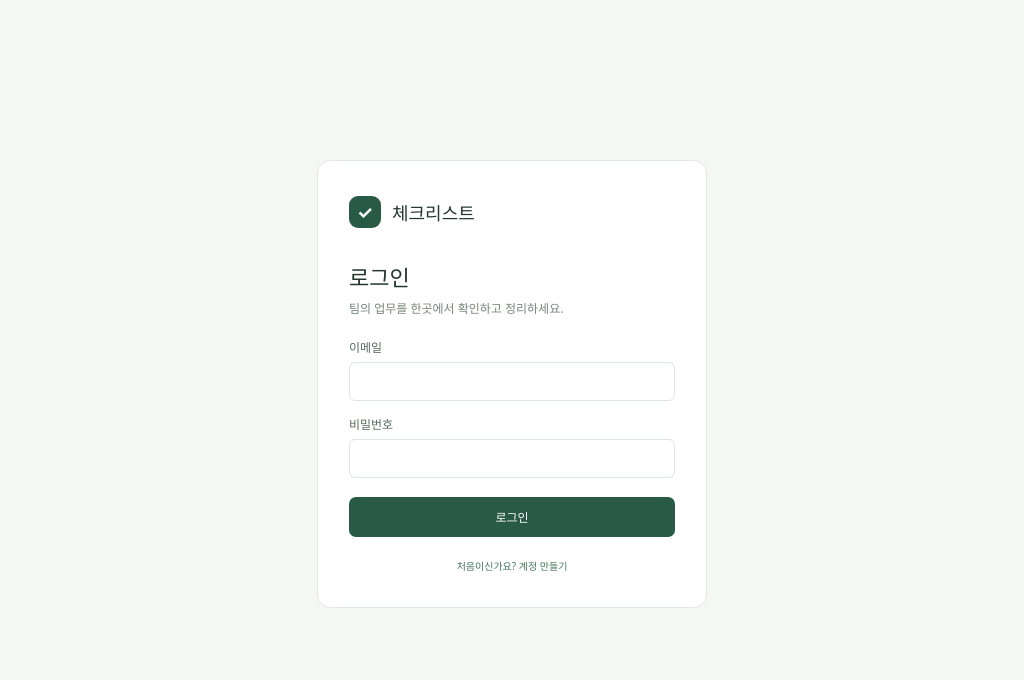
체크리스트 사용자 흐름 › 담당자가 남아 편집자 제외가 거절되면 편집 창 안에서 이유를 보여준다
The image size is (1024, 680).
Type "minji@example.com" into the field labelled "이메일".
click(512, 382); type("minji@example.com")  # box x1=349 y1=362 x2=675 y2=401
Type "secure-pass-1" into the password field labelled "비밀번호".
click(512, 458); type("secure-pass-1")  # box x1=349 y1=439 x2=675 y2=478
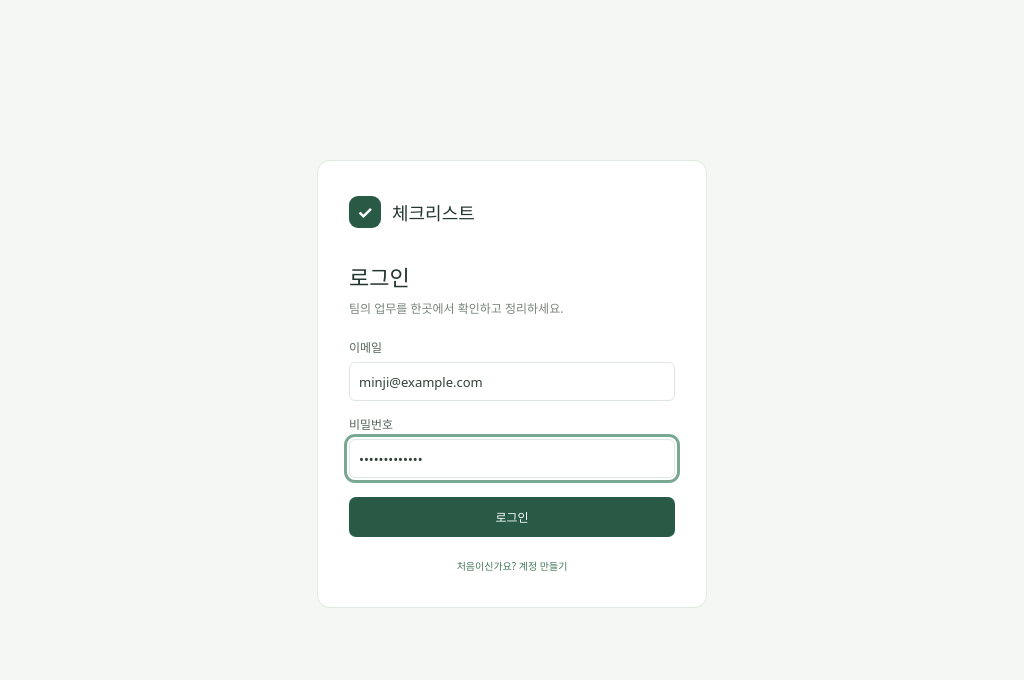
Click the button "로그인".
click(512, 517)  # box x1=349 y1=497 x2=675 y2=537
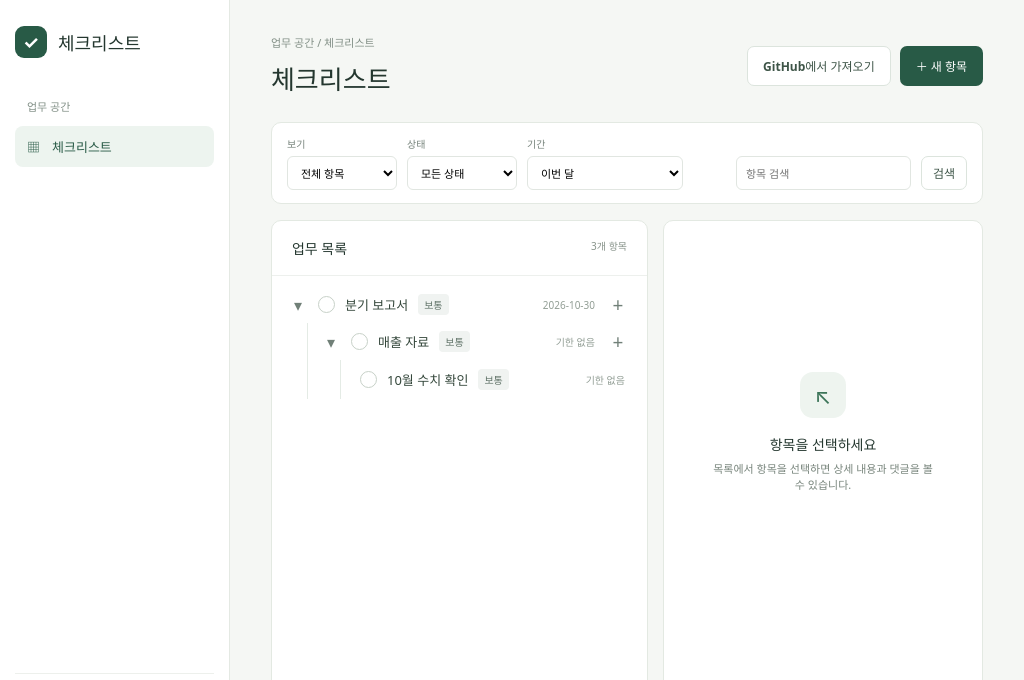
Click the button "분기 보고서 보통 2026-10-30".
click(377, 305)  # box x1=310 y1=286 x2=603 y2=323
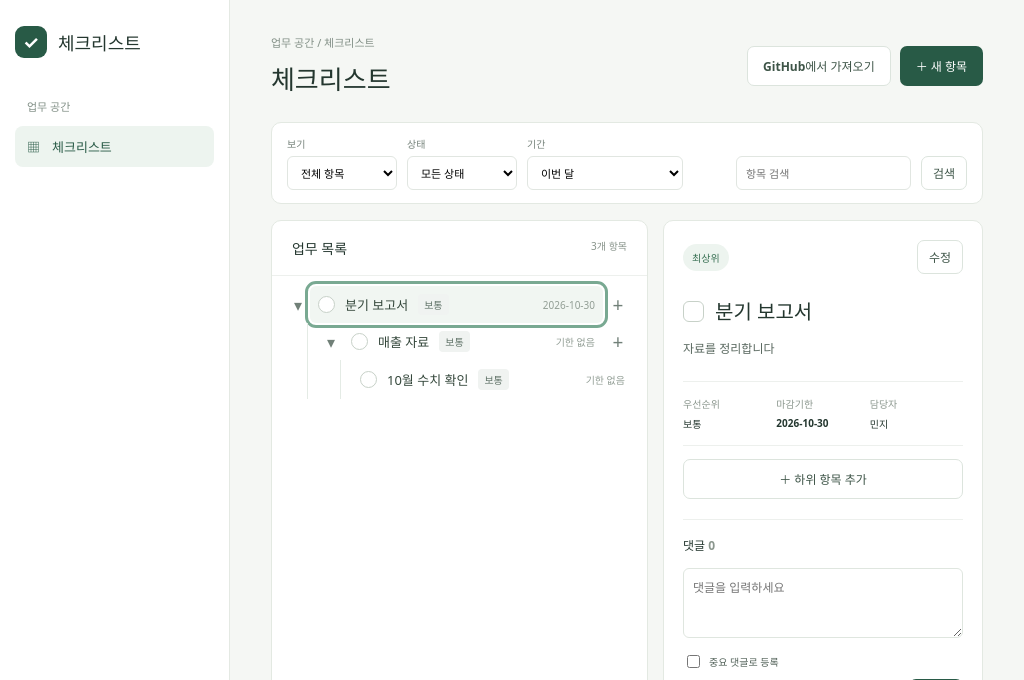
Click the button "수정".
click(940, 257)  # box x1=917 y1=240 x2=963 y2=274
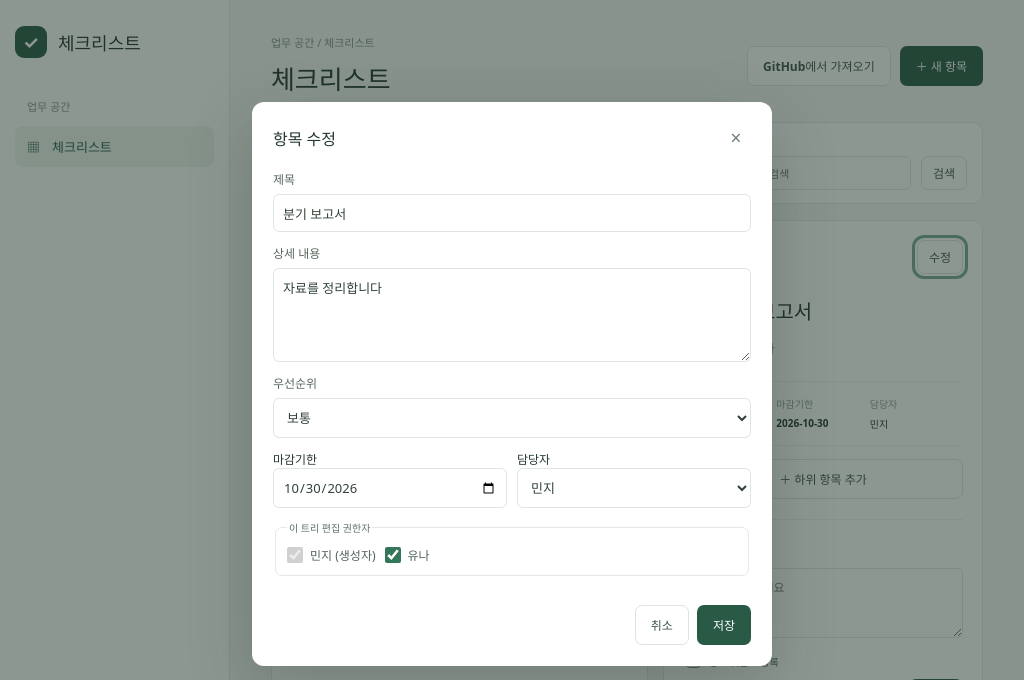
Click the checkbox labelled "유나".
click(392, 555)  # box x1=384 y1=547 x2=400 y2=563
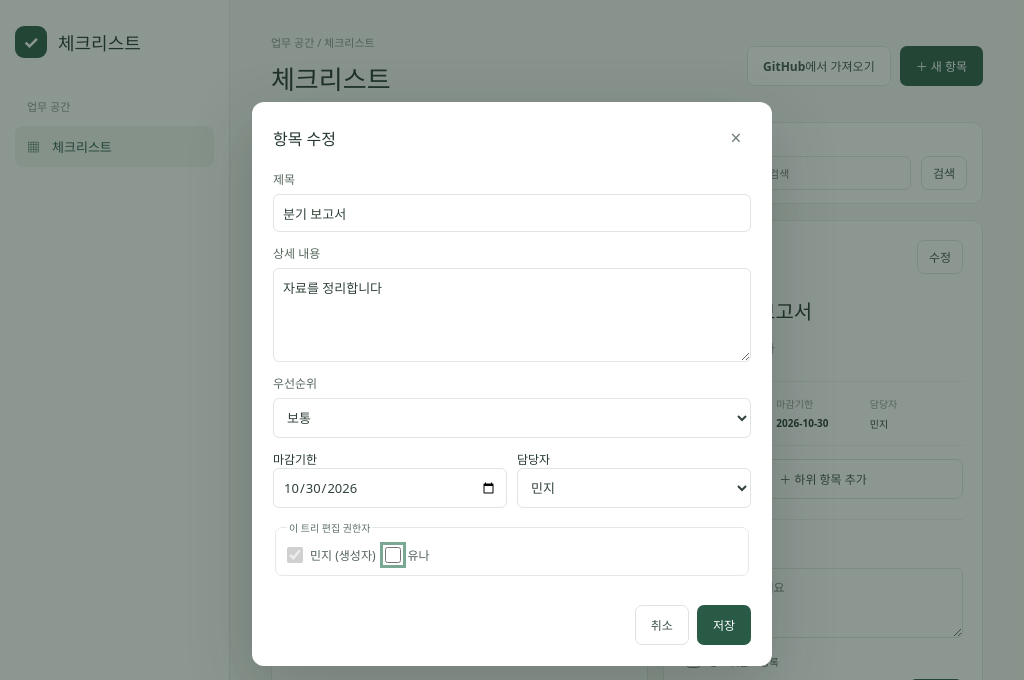
Click the button "저장".
click(724, 625)  # box x1=697 y1=605 x2=751 y2=645
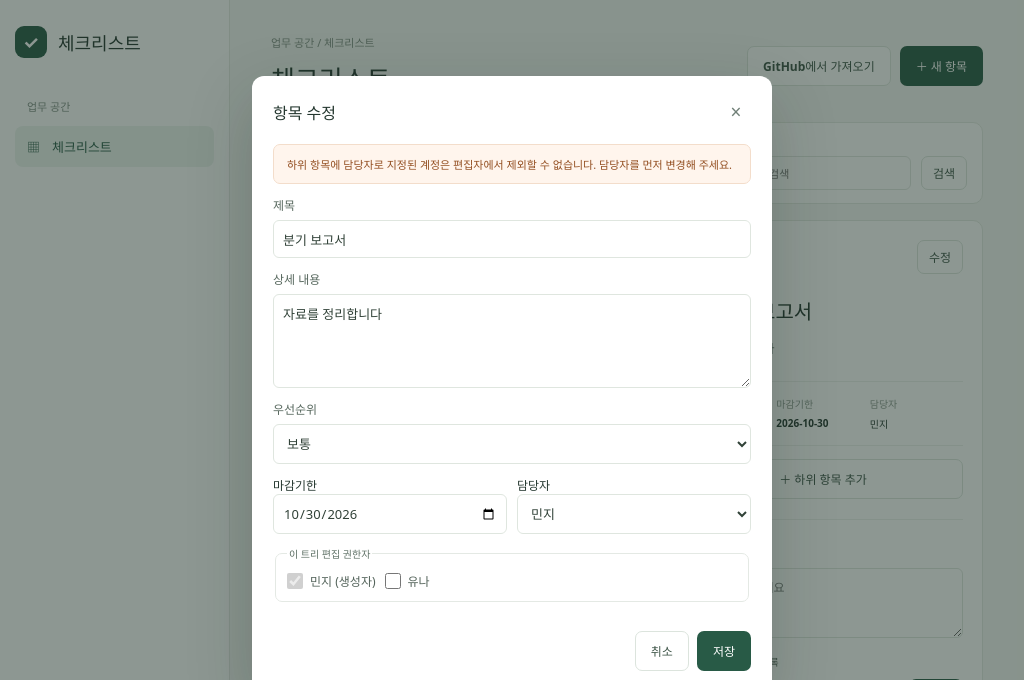
Check: the field labelled "제목" holds "분기 보고서", box x1=273 y1=220 x2=751 y2=258
Check: the message reads "하위 항목에 담당자로 지정된 계정은 편집자에서 제외할 수 없습니다. 담당자를 먼저 변경해 주세요.", box x1=287 y1=157 x2=732 y2=172
